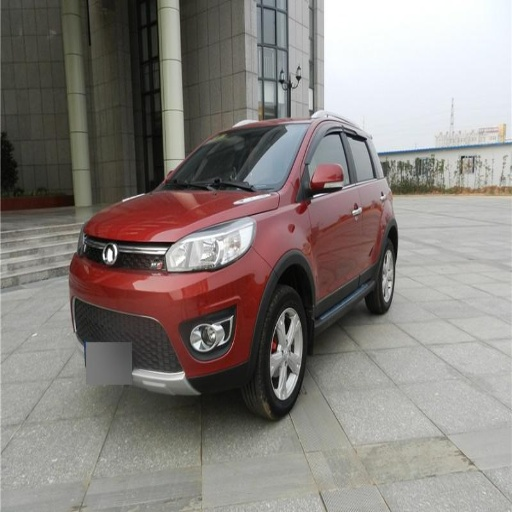front_bumper: (67, 236, 271, 393)
front_glass: (160, 126, 304, 191)
front_left_door: (304, 120, 356, 313)
